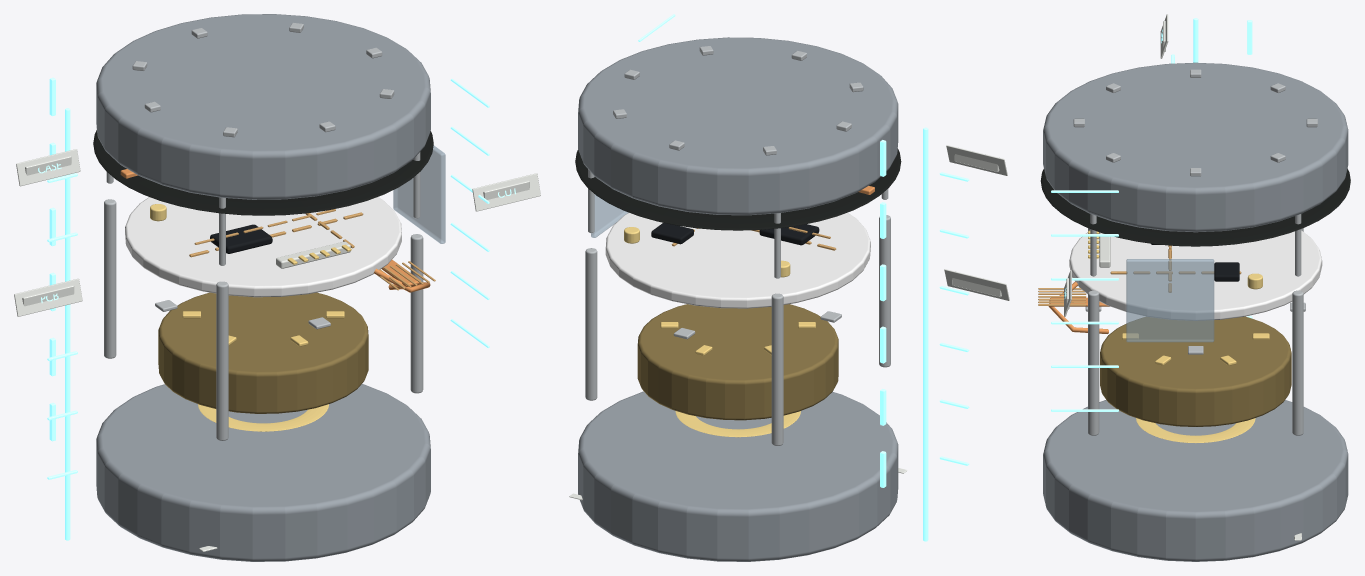
3 renders of one model, left to right at view 1: azimuth 30°, elevation 25°; view 2: azimuth 150°, elevation 25°; view 3: azimuth 270°, elevation 25°, orthographic. The views are drawn at different scales.
Visible parts, largest first — view 1: case_top_shell, case_bottom_shell, battery_cell_brass, board_pcb_round, case_gasket_outer_rubber, case_cutaway_translucent_panel, exploded_axis_guide, support_post_front_left, support_post_back_left, support_post_front_right, battery_spring_contact_ring_01, cutaway_callout_window_decal_plate (+4 smaller); view 2: case_top_shell, case_bottom_shell, battery_cell_brass, board_pcb_round, case_gasket_outer_rubber, exploded_axis_guide, support_post_back_left, support_post_back_right, support_post_front_left, battery_spring_contact_ring_01, case_cutaway_translucent_panel, axis_callout_board_decal_plate (+3 smaller); view 3: case_top_shell, case_bottom_shell, battery_cell_brass, board_pcb_round, case_cutaway_translucent_panel, case_gasket_outer_rubber, support_post_back_right, support_post_front_right, battery_spring_contact_ring_01, board_chip_sensor_black, spacer_post_back_right_axis_aligned.
Part boxes in pixels (box(x1,y1,x2,y2)): case_top_shell: box(96, 14, 430, 199); case_bottom_shell: box(96, 384, 430, 561); battery_cell_brass: box(158, 292, 368, 413); board_pcb_round: box(125, 197, 401, 297); case_gasket_outer_rubber: box(93, 130, 433, 215); case_cutaway_translucent_panel: box(393, 145, 445, 243); exploded_axis_guide: box(65, 108, 70, 540); support_post_front_left: box(216, 281, 228, 440); support_post_back_left: box(104, 199, 116, 358); support_post_front_right: box(410, 234, 423, 393); battery_spring_contact_ring_01: box(198, 404, 328, 431); cutaway_callout_window_decal_plate: box(472, 173, 540, 211); case_top_shell: box(578, 37, 898, 215); case_bottom_shell: box(578, 391, 898, 561); battery_cell_brass: box(637, 304, 838, 420); board_pcb_round: box(605, 212, 870, 308); case_gasket_outer_rubber: box(575, 148, 901, 230); exploded_axis_guide: box(923, 127, 928, 541); support_post_back_left: box(771, 293, 783, 445); support_post_back_right: box(585, 248, 597, 400); support_post_front_left: box(879, 215, 890, 367); battery_spring_contact_ring_01: box(675, 411, 800, 437); case_cutaway_translucent_panel: box(591, 194, 628, 237); axis_callout_board_decal_plate: box(944, 269, 1009, 300); case_top_shell: box(1043, 62, 1348, 232); case_bottom_shell: box(1043, 400, 1348, 561); battery_cell_brass: box(1100, 316, 1291, 426); board_pcb_round: box(1069, 230, 1322, 320); case_cutaway_translucent_panel: box(1126, 259, 1214, 342); case_gasket_outer_rubber: box(1040, 168, 1350, 246); support_post_back_right: box(1292, 290, 1303, 435); support_post_front_right: box(1088, 290, 1099, 435); battery_spring_contact_ring_01: box(1136, 418, 1255, 443); board_chip_sensor_black: box(1214, 262, 1239, 281); spacer_post_back_right_axis_aligned: box(1295, 214, 1301, 276).
Size of the model in its own units: 3.48 by 3.09 by 2.2.
